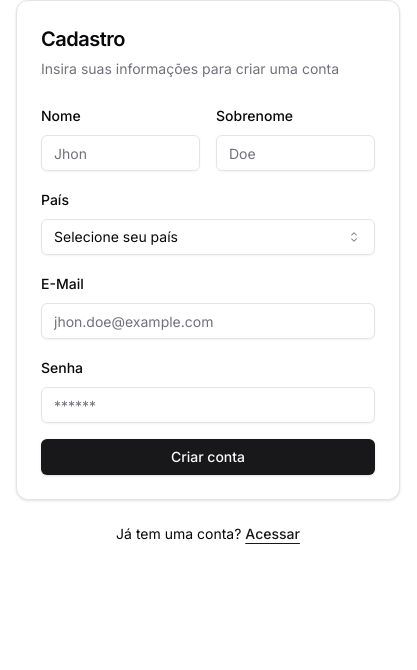
Test case: src/components/auth/signup-form.tsx › shows validation errors when submitting empty form
What coordinates should you click on to do the following:
click the button "Criar conta"
I would click on:
 (208, 457)
Its box is [41, 439, 375, 475].
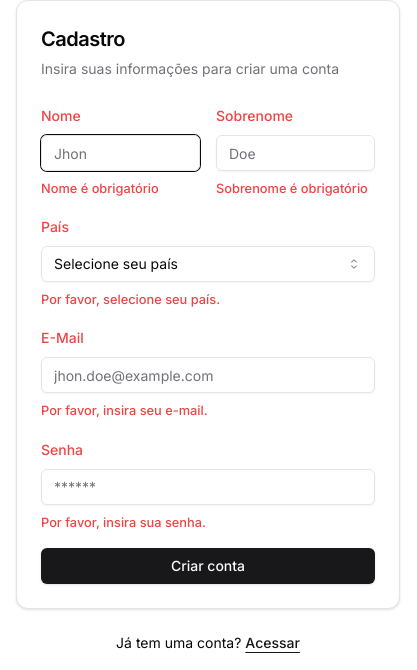
Now the text "Nome é obrigatório" is shown, box [41, 181, 159, 196]
Now the text "Sobrenome é obrigatório" is shown, box [216, 179, 375, 198]
Now the text "Por favor, selecione seu país." is shown, box [41, 292, 220, 307]
